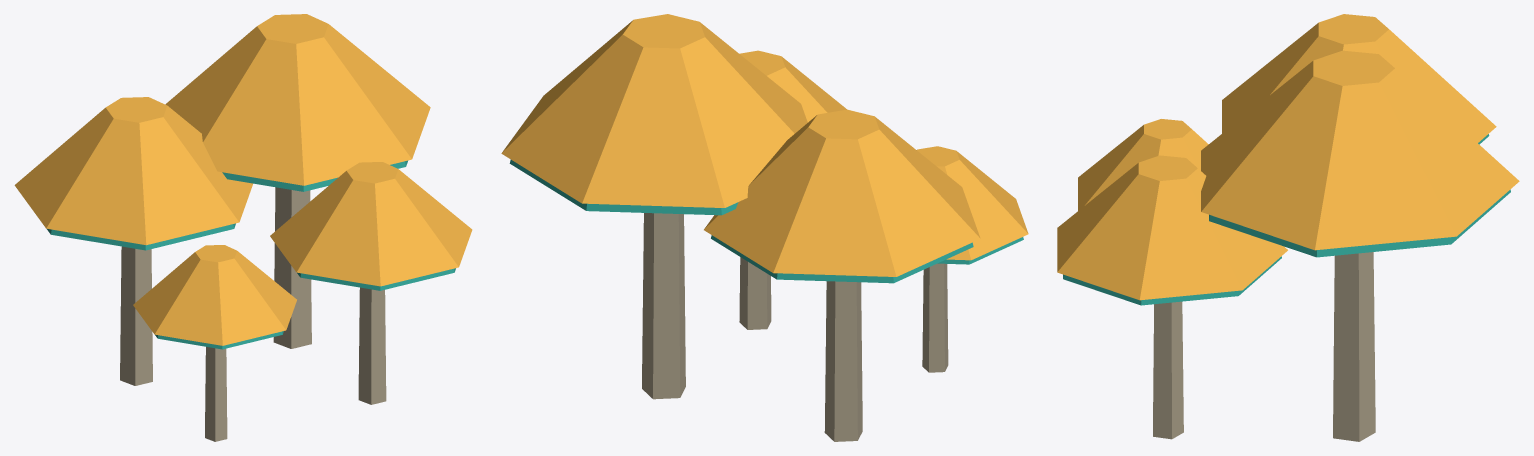
File: GlowMushroom_B.fbx
3 renders of one model, left to right at view 1: azimuth 30°, elevation 25°; view 2: azimuth 150°, elevation 25°; view 3: azimuth 270°, elevation 25°, orthographic. The views are drawn at different scales.
Parts seen in each view (by area): view 1: GlowMushroom_B; view 2: GlowMushroom_B; view 3: GlowMushroom_B.
Part boxes in pixels (box(x1,y1,x2,y2)): GlowMushroom_B: box(14, 14, 472, 441); GlowMushroom_B: box(501, 14, 1028, 441); GlowMushroom_B: box(1057, 14, 1519, 441).
Size of the model in its own units: 0.7242 by 0.565 by 0.6504.
1 material, 1 textured.
